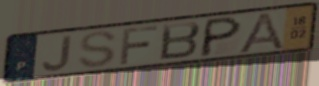A: (235, 10, 287, 55)
B: (158, 20, 203, 62)
F: (118, 24, 161, 66)
J: (40, 33, 74, 73)
P: (197, 15, 244, 59)
S: (76, 30, 119, 70)
